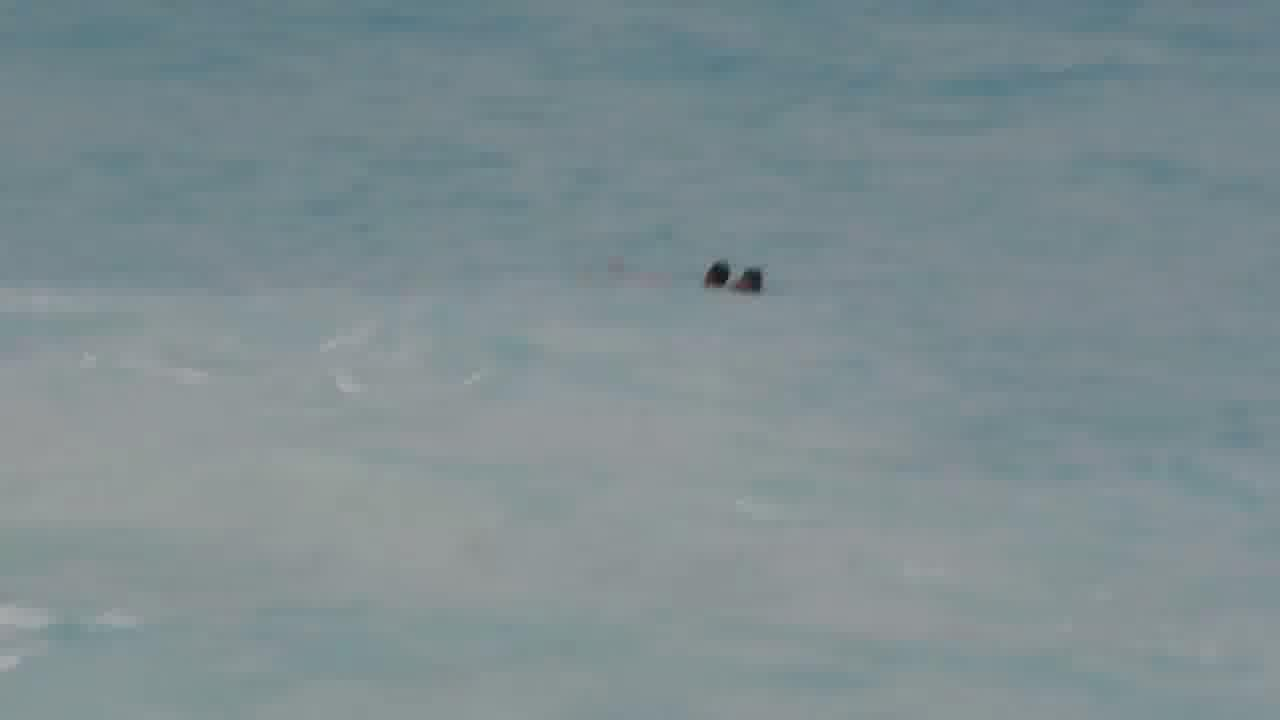swimmer: (632, 248, 733, 290), (730, 254, 781, 296)
